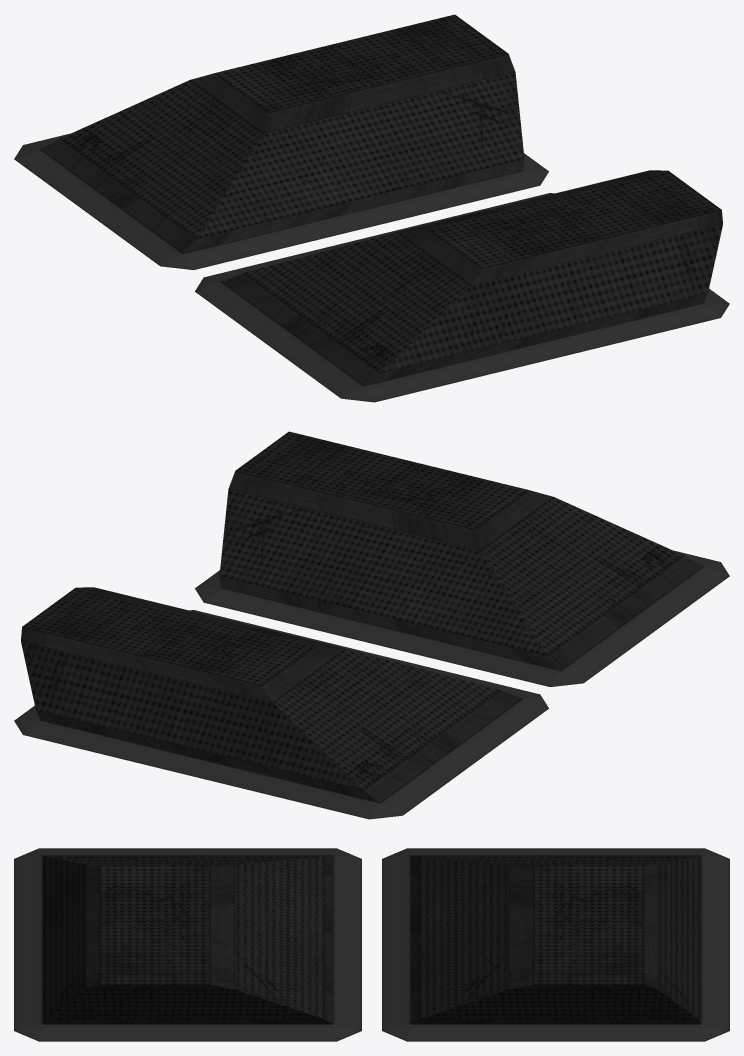
File: p6_hijacked_speed_boat_lock_lod1.glb
3 renders of one model, top to bottom at view 1: azimuth 30°, elevation 25°; view 2: azimuth 150°, elevation 25°; view 3: azimuth 270°, elevation 25°, orthographic.
Visible parts, largest first — view 1: surf0, surf2, surf1; view 2: surf0, surf2, surf1; view 3: surf0, surf1, surf2.
Boxes of the visible parts, x1,y1,x2,y2 form: surf0: (60, 14, 722, 372); surf2: (40, 54, 722, 385); surf1: (14, 133, 729, 402); surf0: (21, 431, 683, 789); surf2: (21, 471, 703, 802); surf1: (14, 550, 729, 819); surf0: (45, 856, 698, 1019); surf1: (14, 848, 729, 1041); surf2: (42, 855, 701, 1024).
Size of the model in its own units: 84 by 13 by 124.
